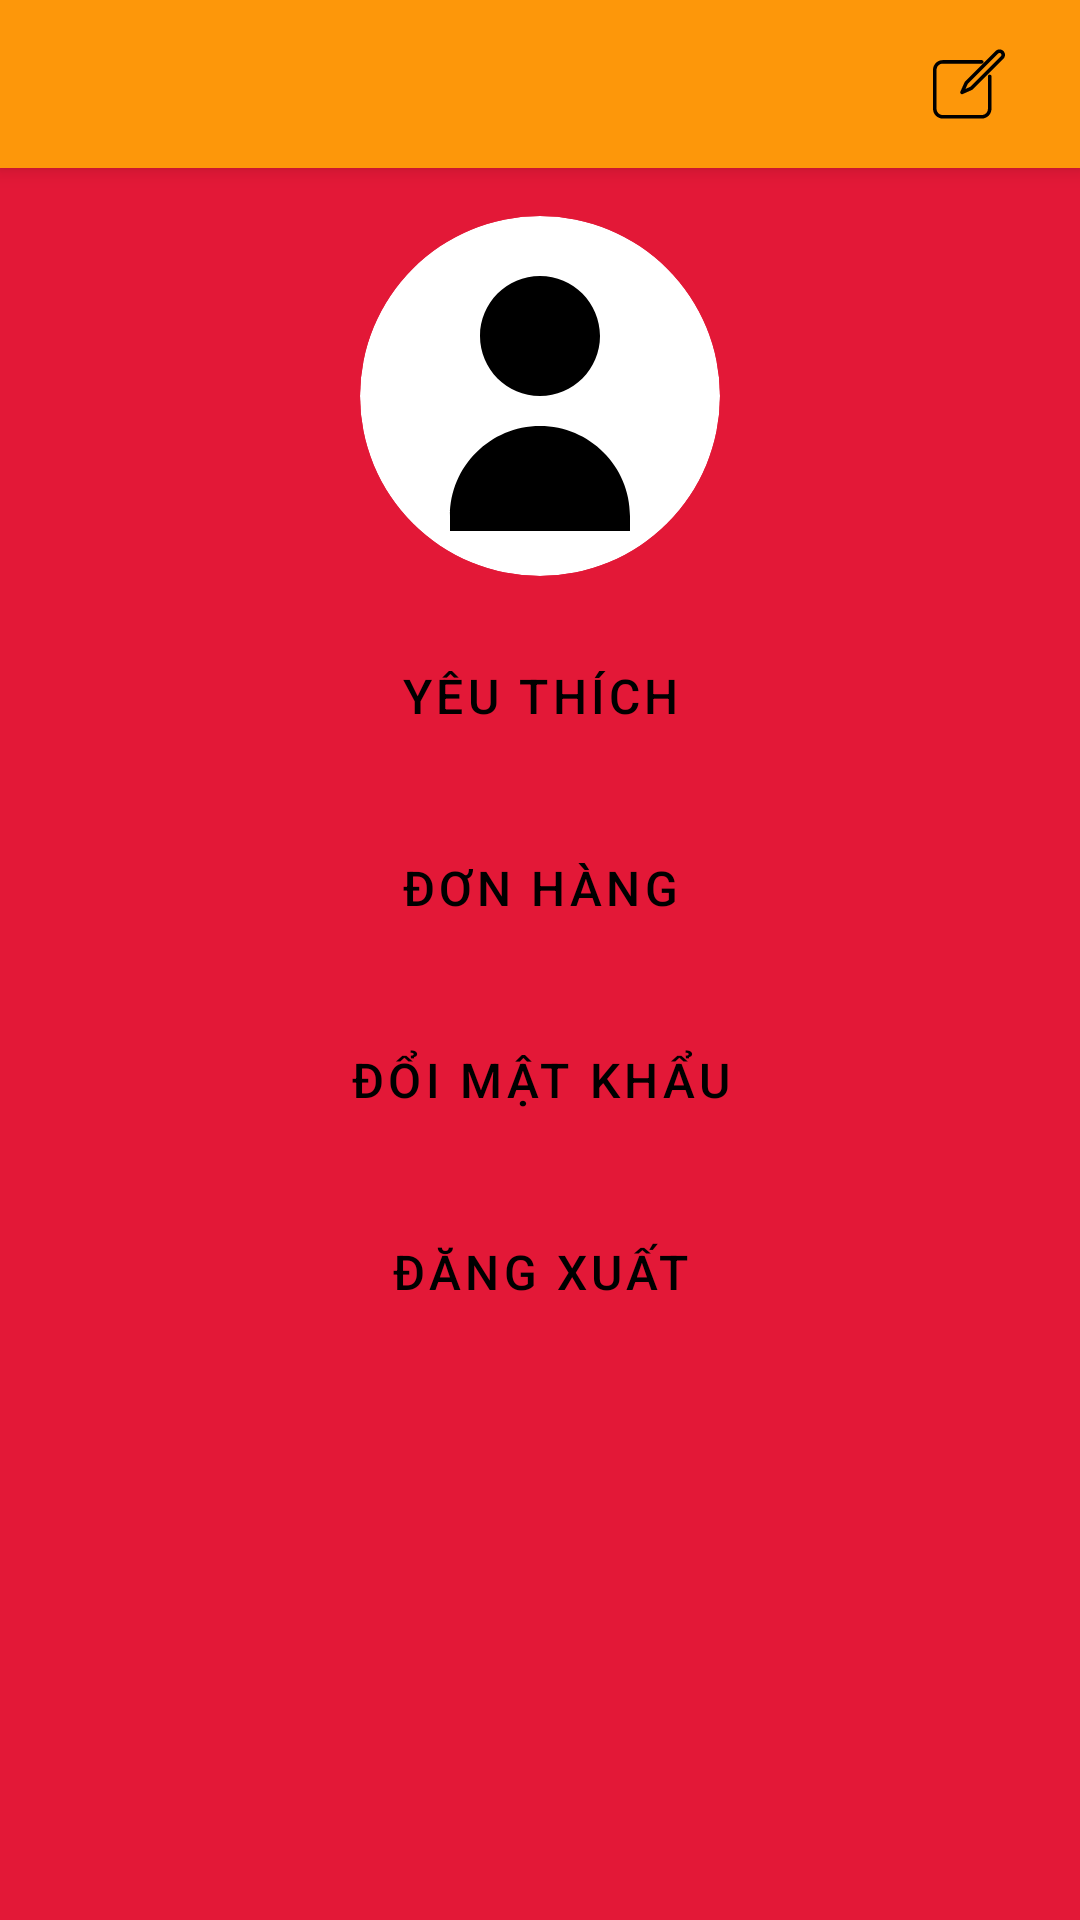

Icon click points for this 1080*1920 phone screenshot, format point (x, y):
Edit: point (969, 84)
Profile Picture: point (540, 396)
